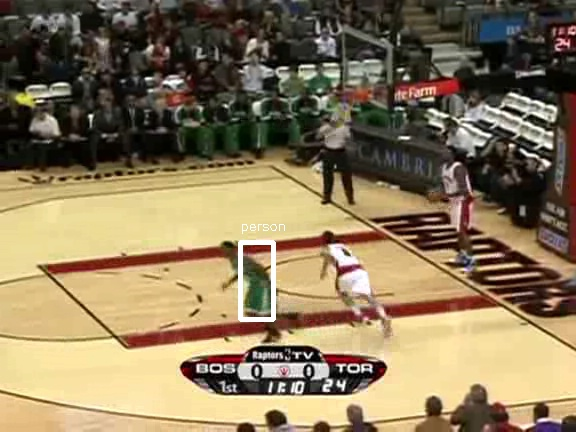person: (234, 245, 268, 326), (233, 245, 267, 326), (235, 245, 269, 326), (234, 244, 268, 325), (234, 246, 268, 327)
target_negative: (107, 29, 188, 354), (170, 140, 307, 280), (298, 171, 443, 277), (379, 102, 435, 323), (418, 418, 454, 432), (377, 318, 388, 346)
